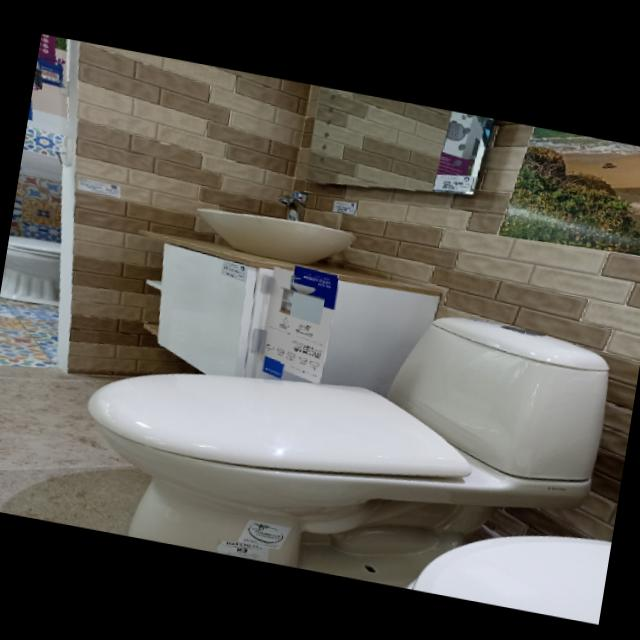toilet: (68, 247, 617, 618)
